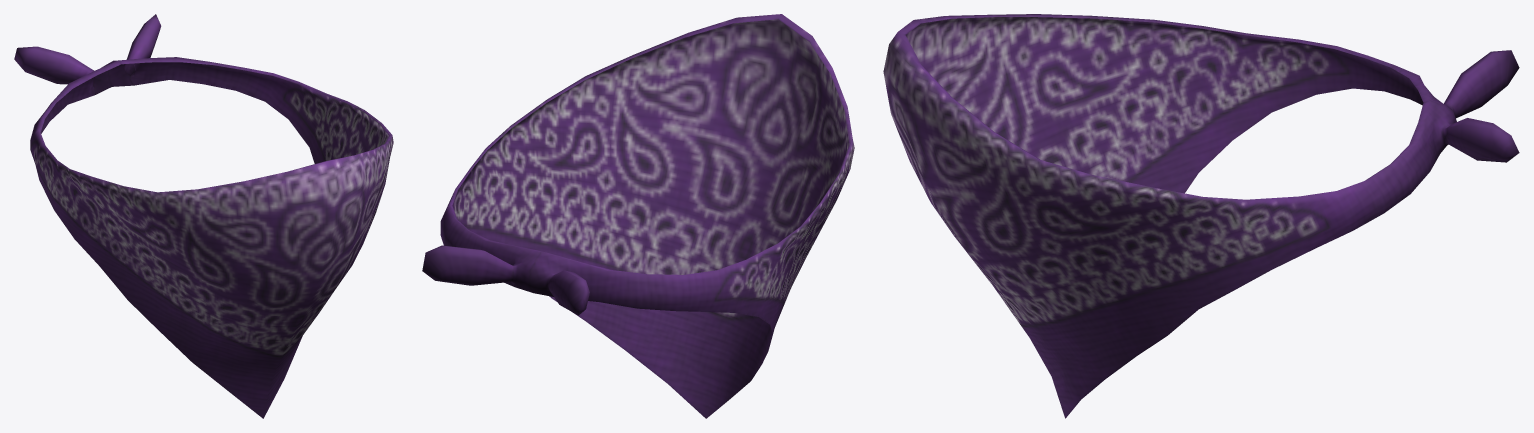
3 views of the same model, side by side, from view 1: azimuth 30°, elevation 25°; view 2: azimuth 150°, elevation 25°; view 3: azimuth 270°, elevation 25° (orthographic). The views are drawn at different scales.
Parts seen in each view (by area): view 1: bandana_mask_0; view 2: bandana_mask_0; view 3: bandana_mask_0.
Boxes of the visible parts, box(x1,y1,x2,y2) form: bandana_mask_0: box(14, 14, 393, 418); bandana_mask_0: box(422, 14, 854, 418); bandana_mask_0: box(883, 14, 1519, 418).
Bounding box in the file's own units: 7.11 × 7.51 × 11.2.
1 material, 1 textured.
